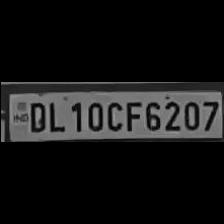0: (84, 98, 104, 132), (180, 98, 200, 130)
1: (64, 98, 84, 132)
2: (161, 98, 181, 132)
6: (141, 99, 161, 131)
7: (201, 99, 219, 131)
C: (104, 98, 122, 132)
D: (24, 99, 46, 133)
F: (122, 98, 140, 132)
L: (44, 99, 64, 133)
